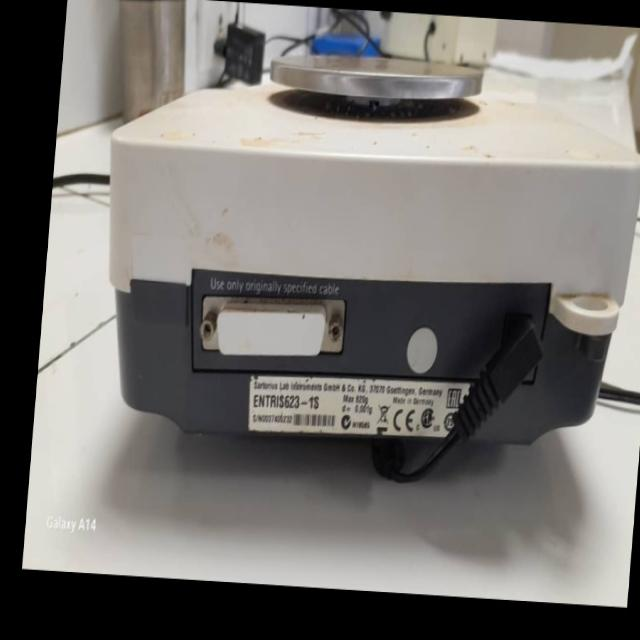Electronic balance: (68, 10, 640, 467)
